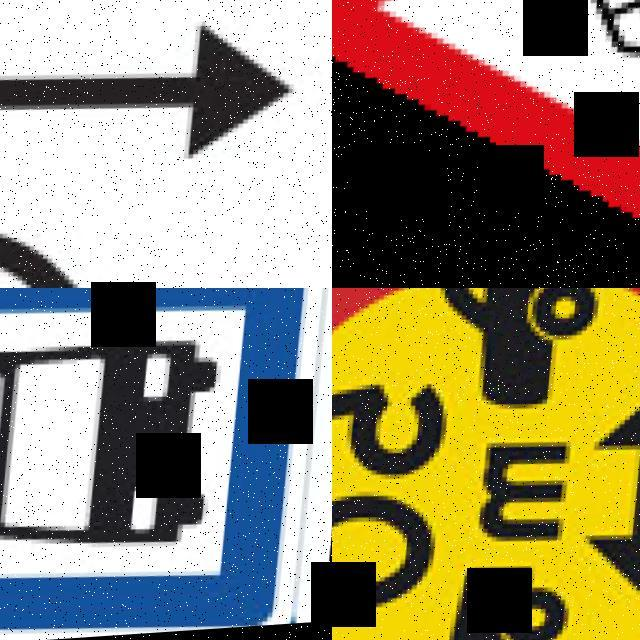179: (0, 0, 332, 288)
50 meters between vehicles: (332, 288, 640, 640)
60: (0, 288, 332, 640)
Unprotected quay: (332, 0, 640, 288)
